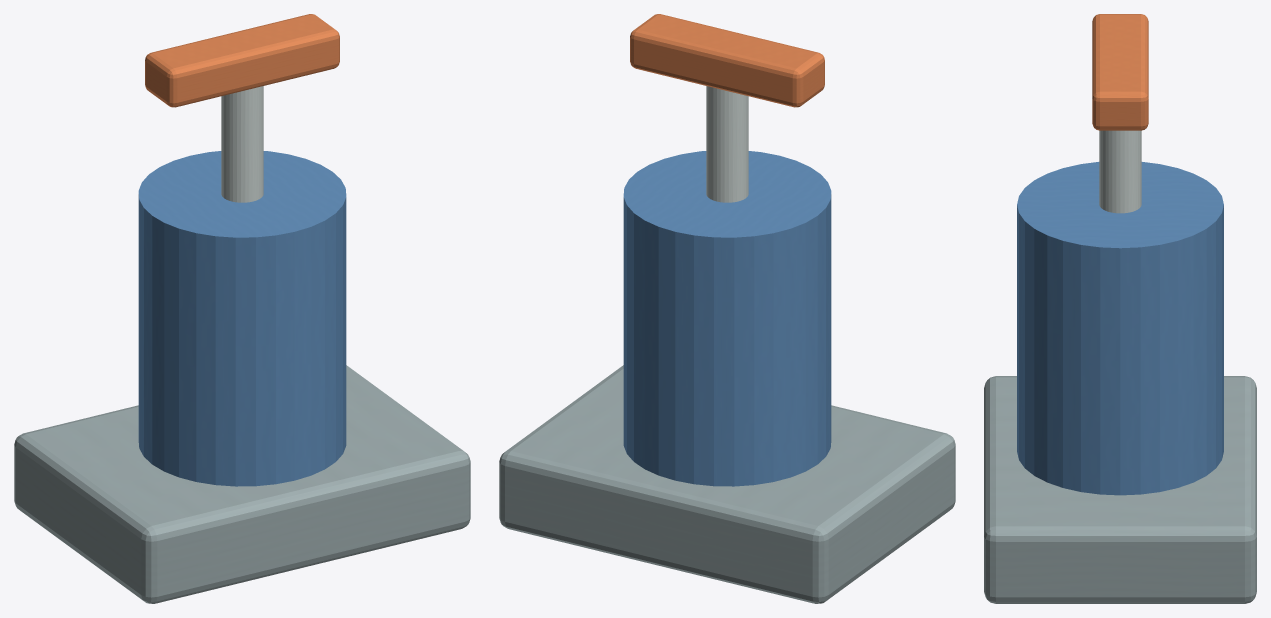
The model's file is pump.glb.
The picture shows the model from 3 angles, left to right: view 1: azimuth 30°, elevation 25°; view 2: azimuth 150°, elevation 25°; view 3: azimuth 270°, elevation 25°; orthographic projection.
Parts seen in each view (by area): view 1: Pump_Chamber, Pump_Base, Pump_Grip, Pump_Handle_Rod; view 2: Pump_Chamber, Pump_Base, Pump_Grip, Pump_Handle_Rod; view 3: Pump_Chamber, Pump_Base, Pump_Grip, Pump_Handle_Rod.
Part boxes in pixels (x1,y1,x2,y2): Pump_Chamber: [138, 151, 346, 486]; Pump_Base: [14, 365, 470, 603]; Pump_Grip: [145, 14, 339, 107]; Pump_Handle_Rod: [221, 86, 263, 202]; Pump_Chamber: [623, 151, 831, 486]; Pump_Base: [499, 365, 955, 603]; Pump_Grip: [630, 14, 824, 107]; Pump_Handle_Rod: [706, 86, 748, 202]; Pump_Chamber: [1017, 162, 1223, 495]; Pump_Base: [984, 376, 1256, 603]; Pump_Grip: [1092, 14, 1148, 130]; Pump_Handle_Rod: [1099, 130, 1141, 213].
Bounding box in the file's own units: 0.8 × 1.12 × 0.58.
Materials: 4 (4 with a texture image).
